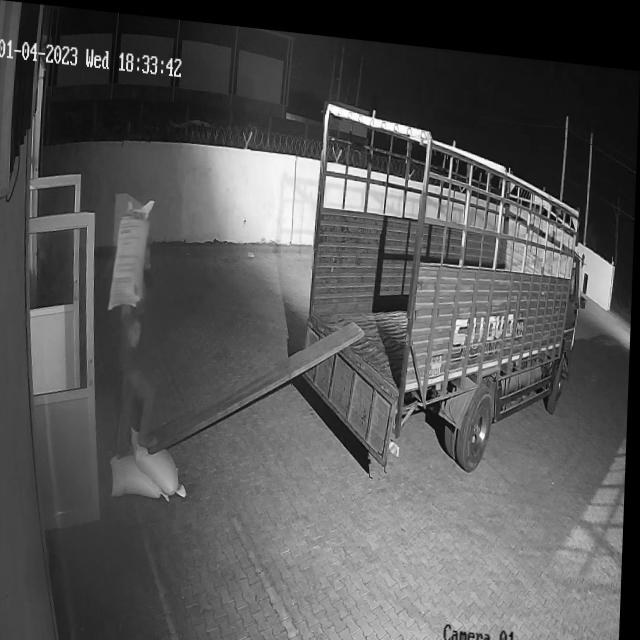sack: (109, 191, 157, 311), (132, 422, 191, 492), (112, 448, 176, 499)
